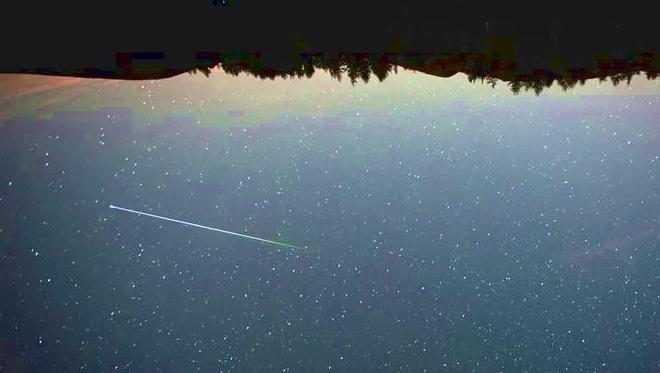meteorite: (94, 198, 313, 253)
